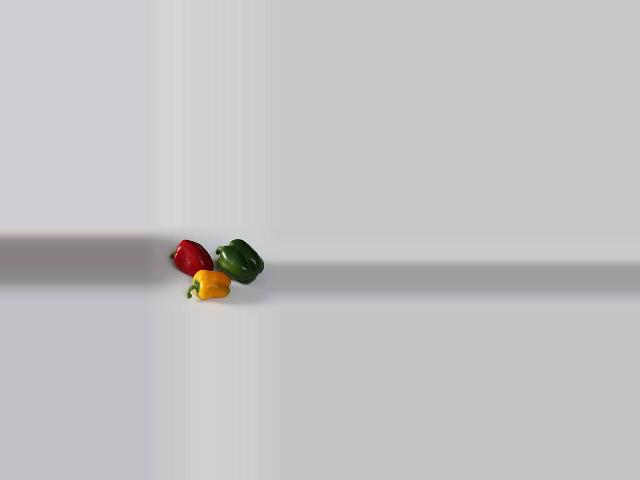bell_pepper: (186, 263, 231, 303)
